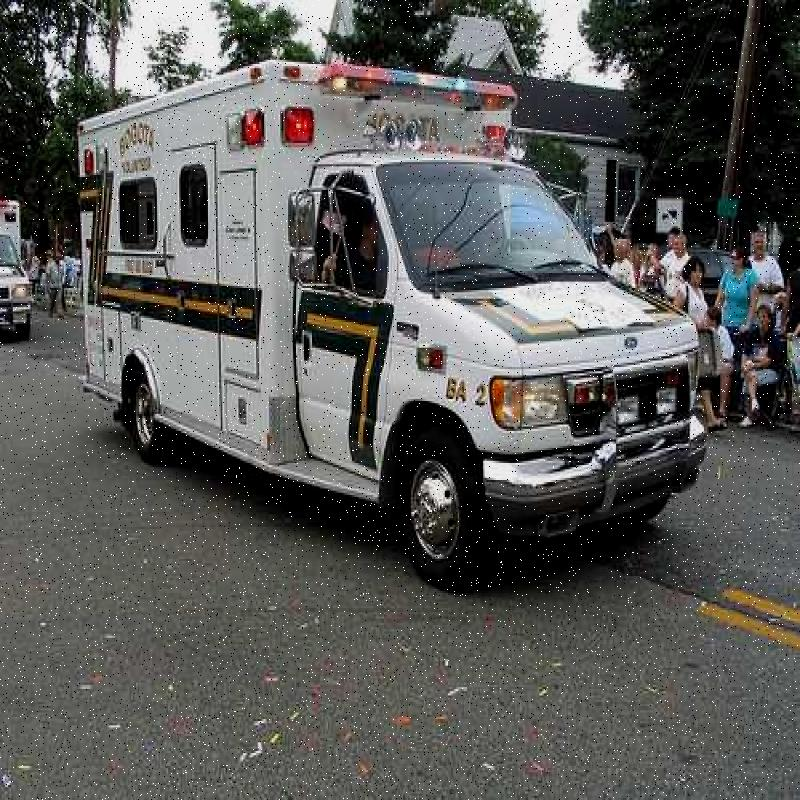AmbulanceSiren: (314, 40, 519, 134)
